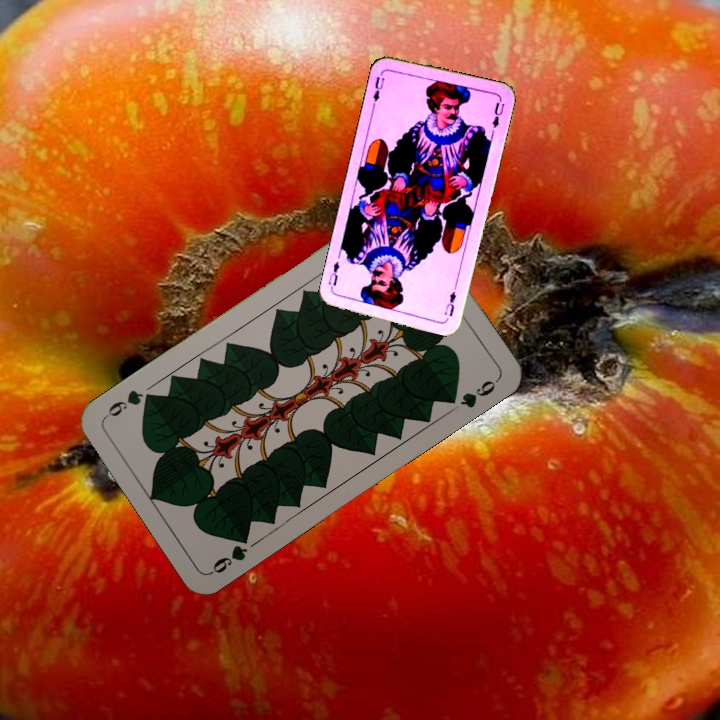EU: (369, 69, 387, 109), (440, 288, 459, 319)
G9: (207, 529, 252, 577)
